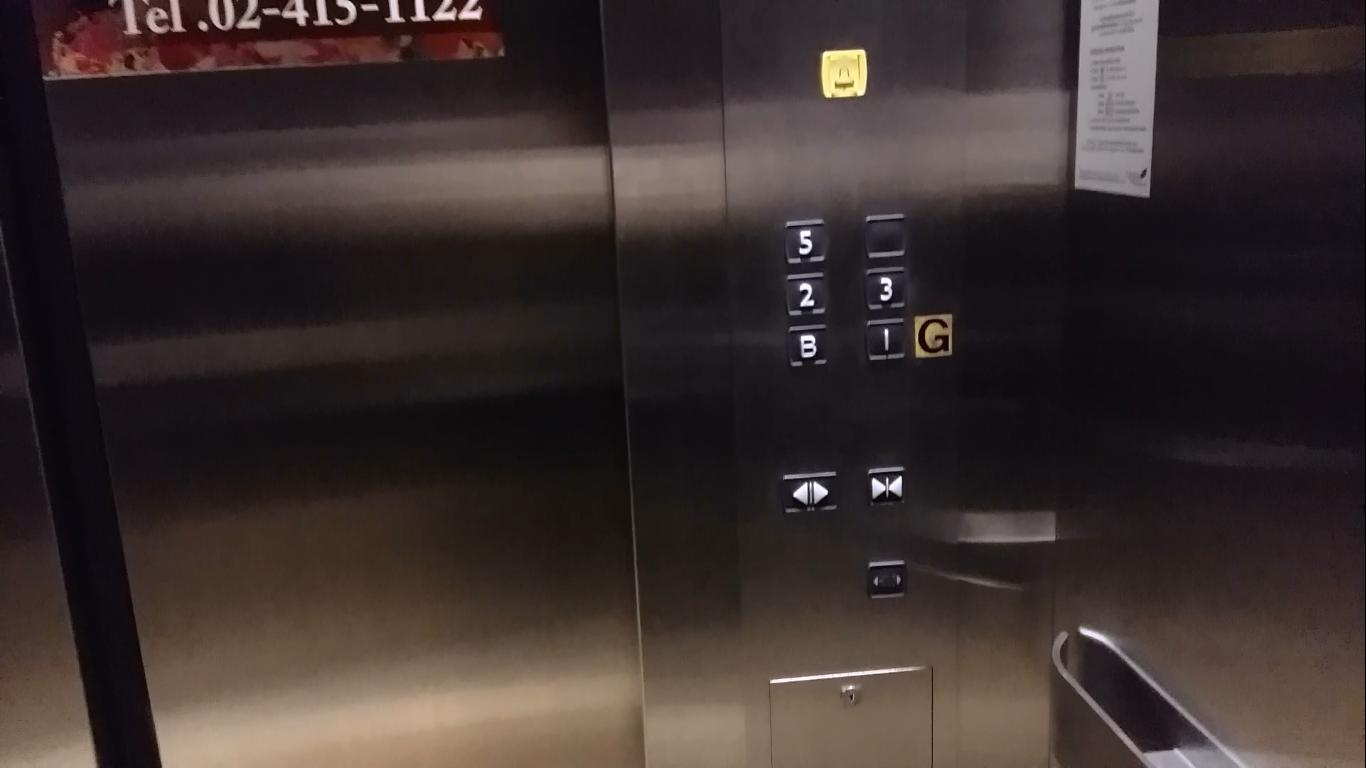1: (858, 314, 912, 367)
2: (779, 267, 833, 320)
3: (859, 261, 913, 314)
5: (777, 215, 831, 268)
B: (781, 320, 835, 373)
G: (910, 310, 957, 360)
alarm: (818, 47, 870, 101)
close: (860, 462, 912, 509)
empty: (858, 210, 912, 263)
open: (779, 467, 843, 518), (861, 556, 913, 603)
